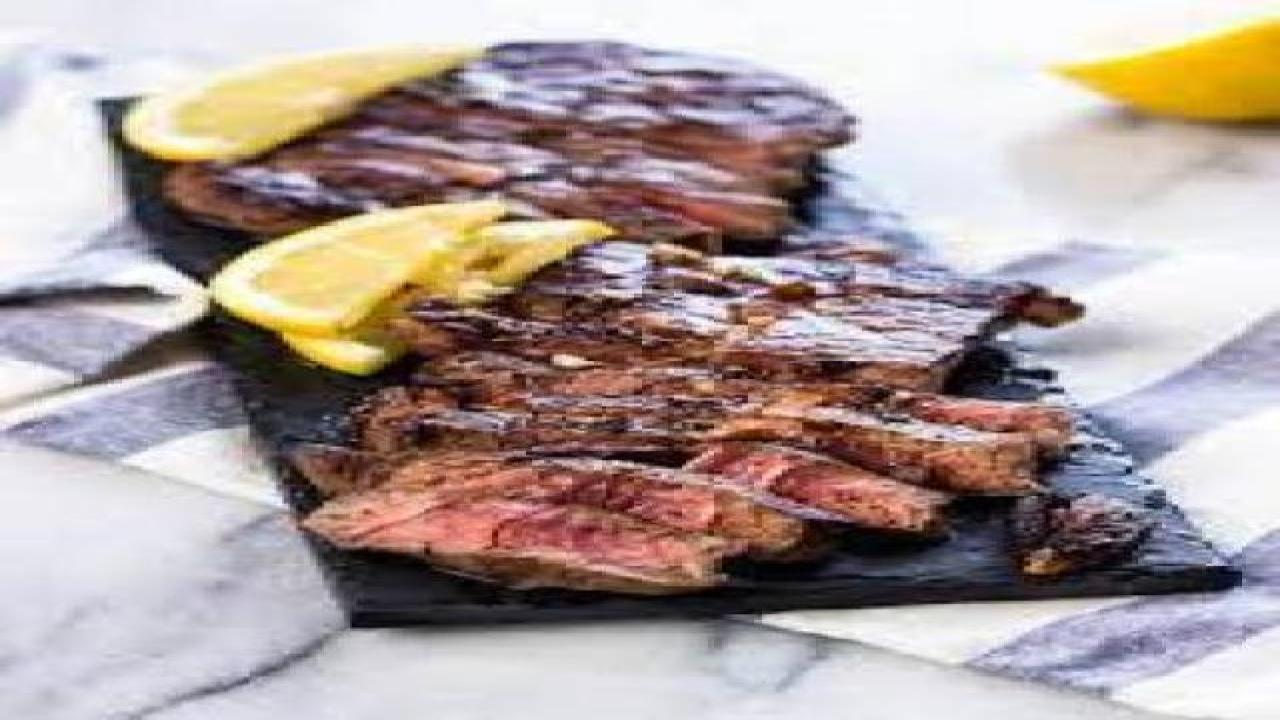Carne: (397, 229, 1094, 595), (219, 12, 911, 241)
